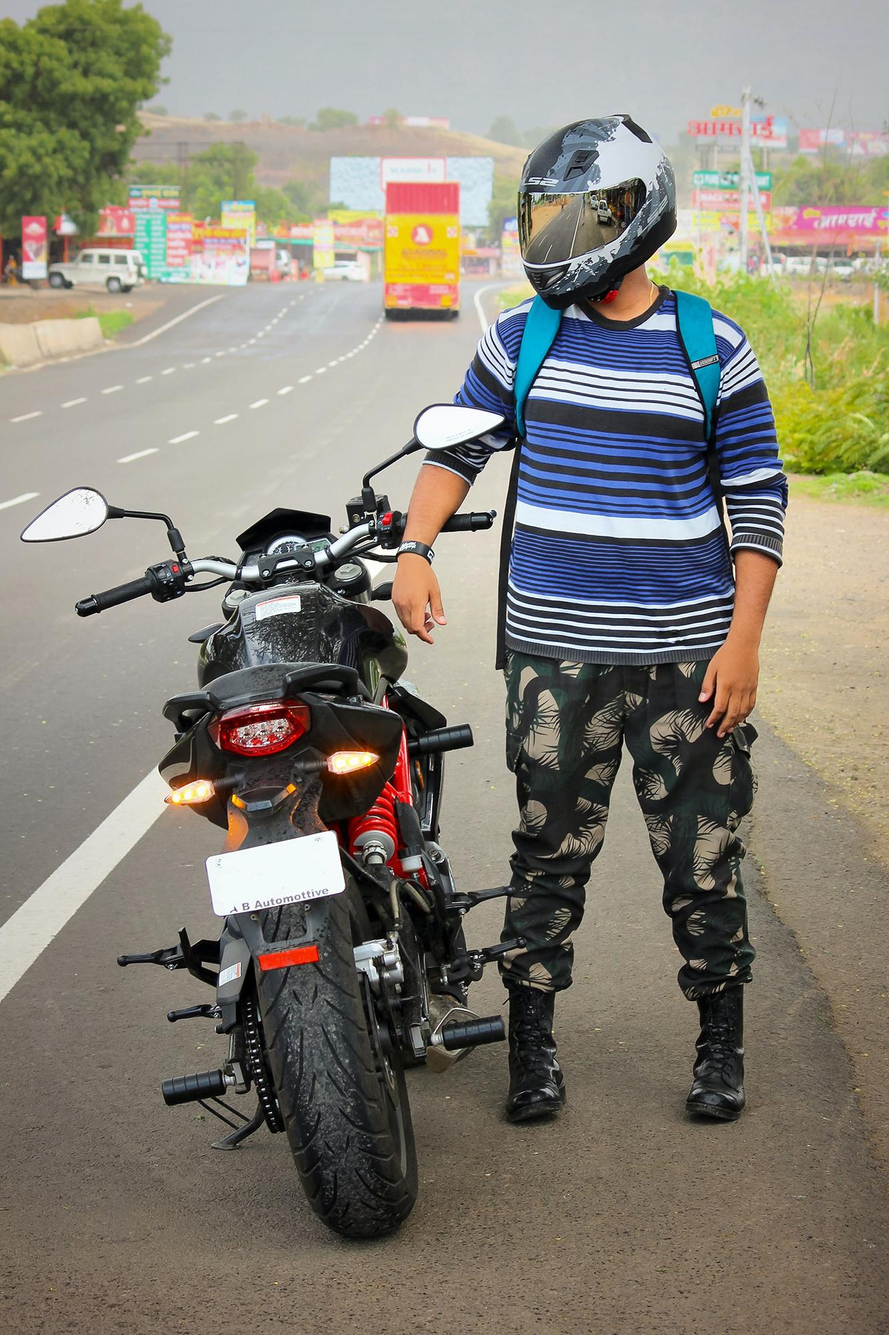helmet: (516, 113, 678, 312)
